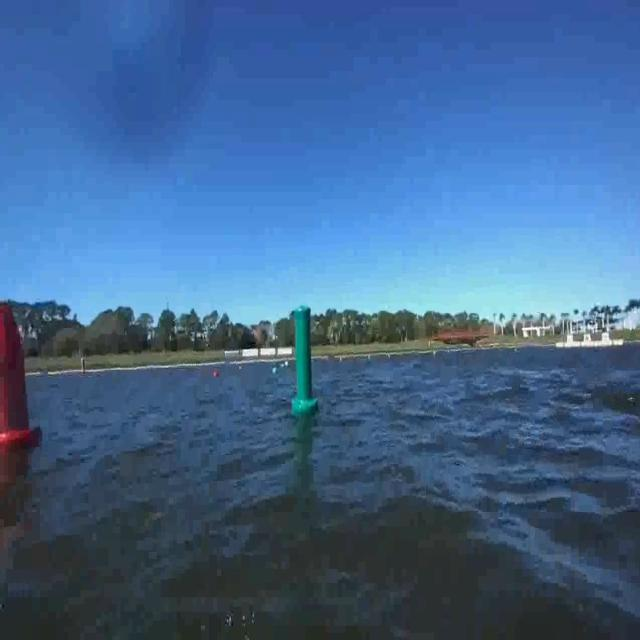green-column-buoy: (290, 302, 317, 413)
red-column-buoy: (0, 304, 40, 448)
